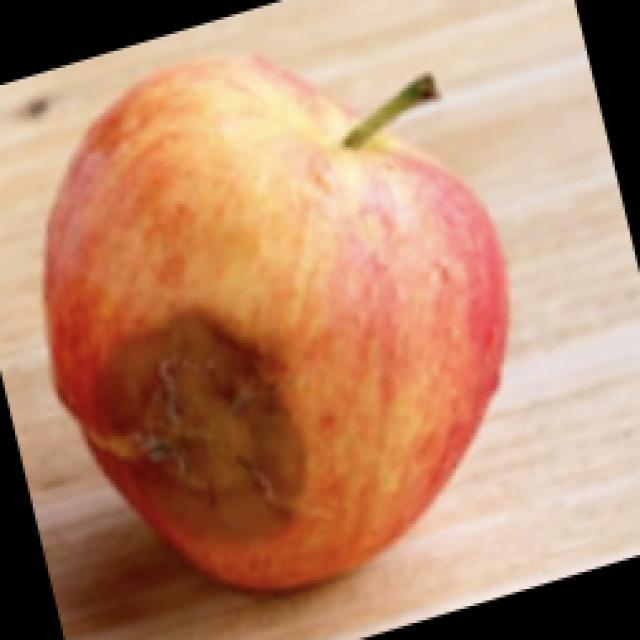Rotten: (41, 52, 512, 590)
